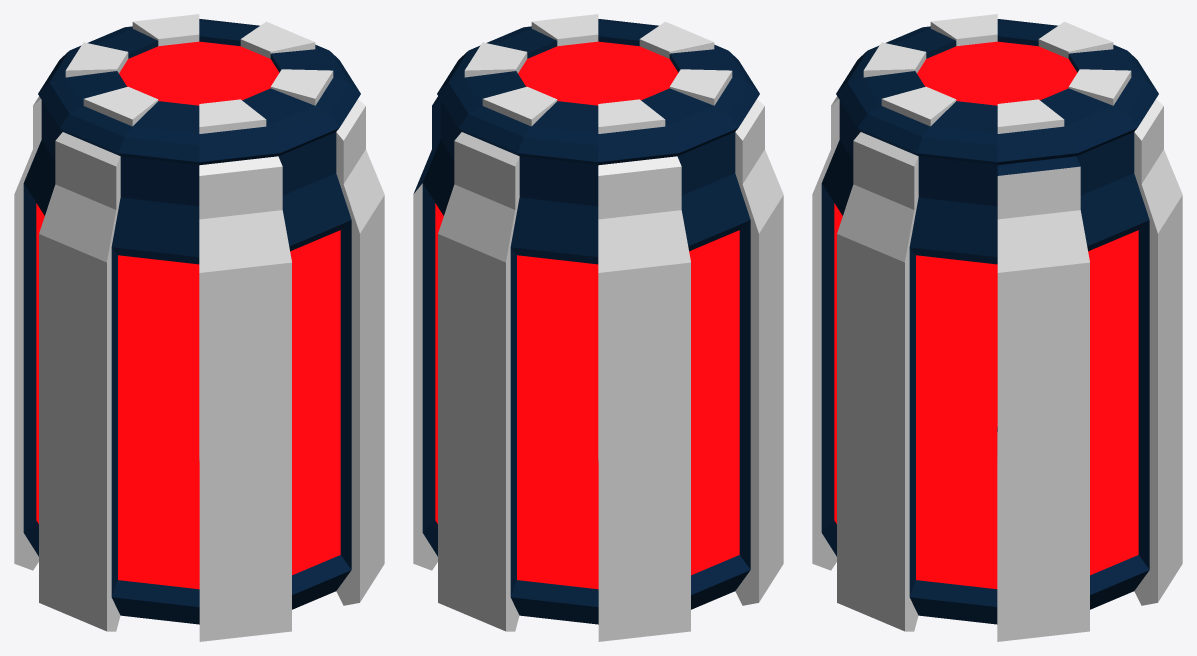
Rendered from barrel.fbx.
3 views of the same model, side by side, from view 1: azimuth 30°, elevation 25°; view 2: azimuth 150°, elevation 25°; view 3: azimuth 270°, elevation 25° (orthographic).
Parts seen in each view (by area): view 1: Barrel; view 2: Barrel; view 3: Barrel.
Part boxes in pixels (x1,y1,x2,y2): Barrel: [14, 14, 384, 641]; Barrel: [413, 14, 783, 641]; Barrel: [812, 14, 1182, 641].
Bounding box in the file's own units: 235 × 350 × 235.
